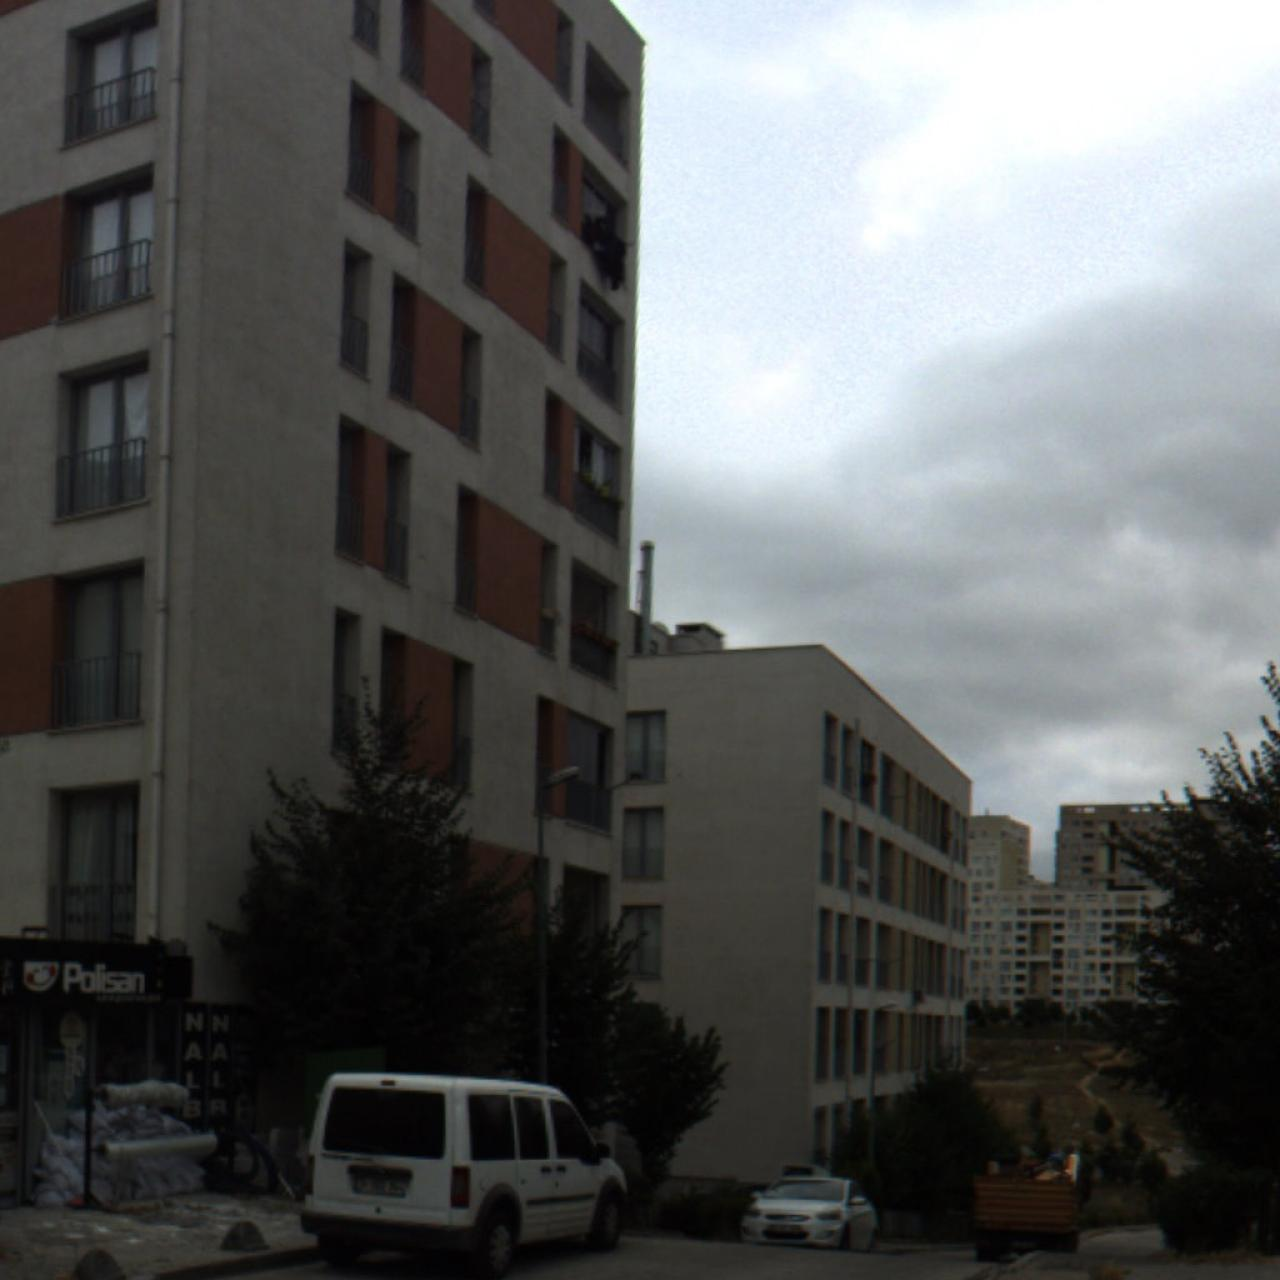SignStore: (7, 938, 166, 1006)
